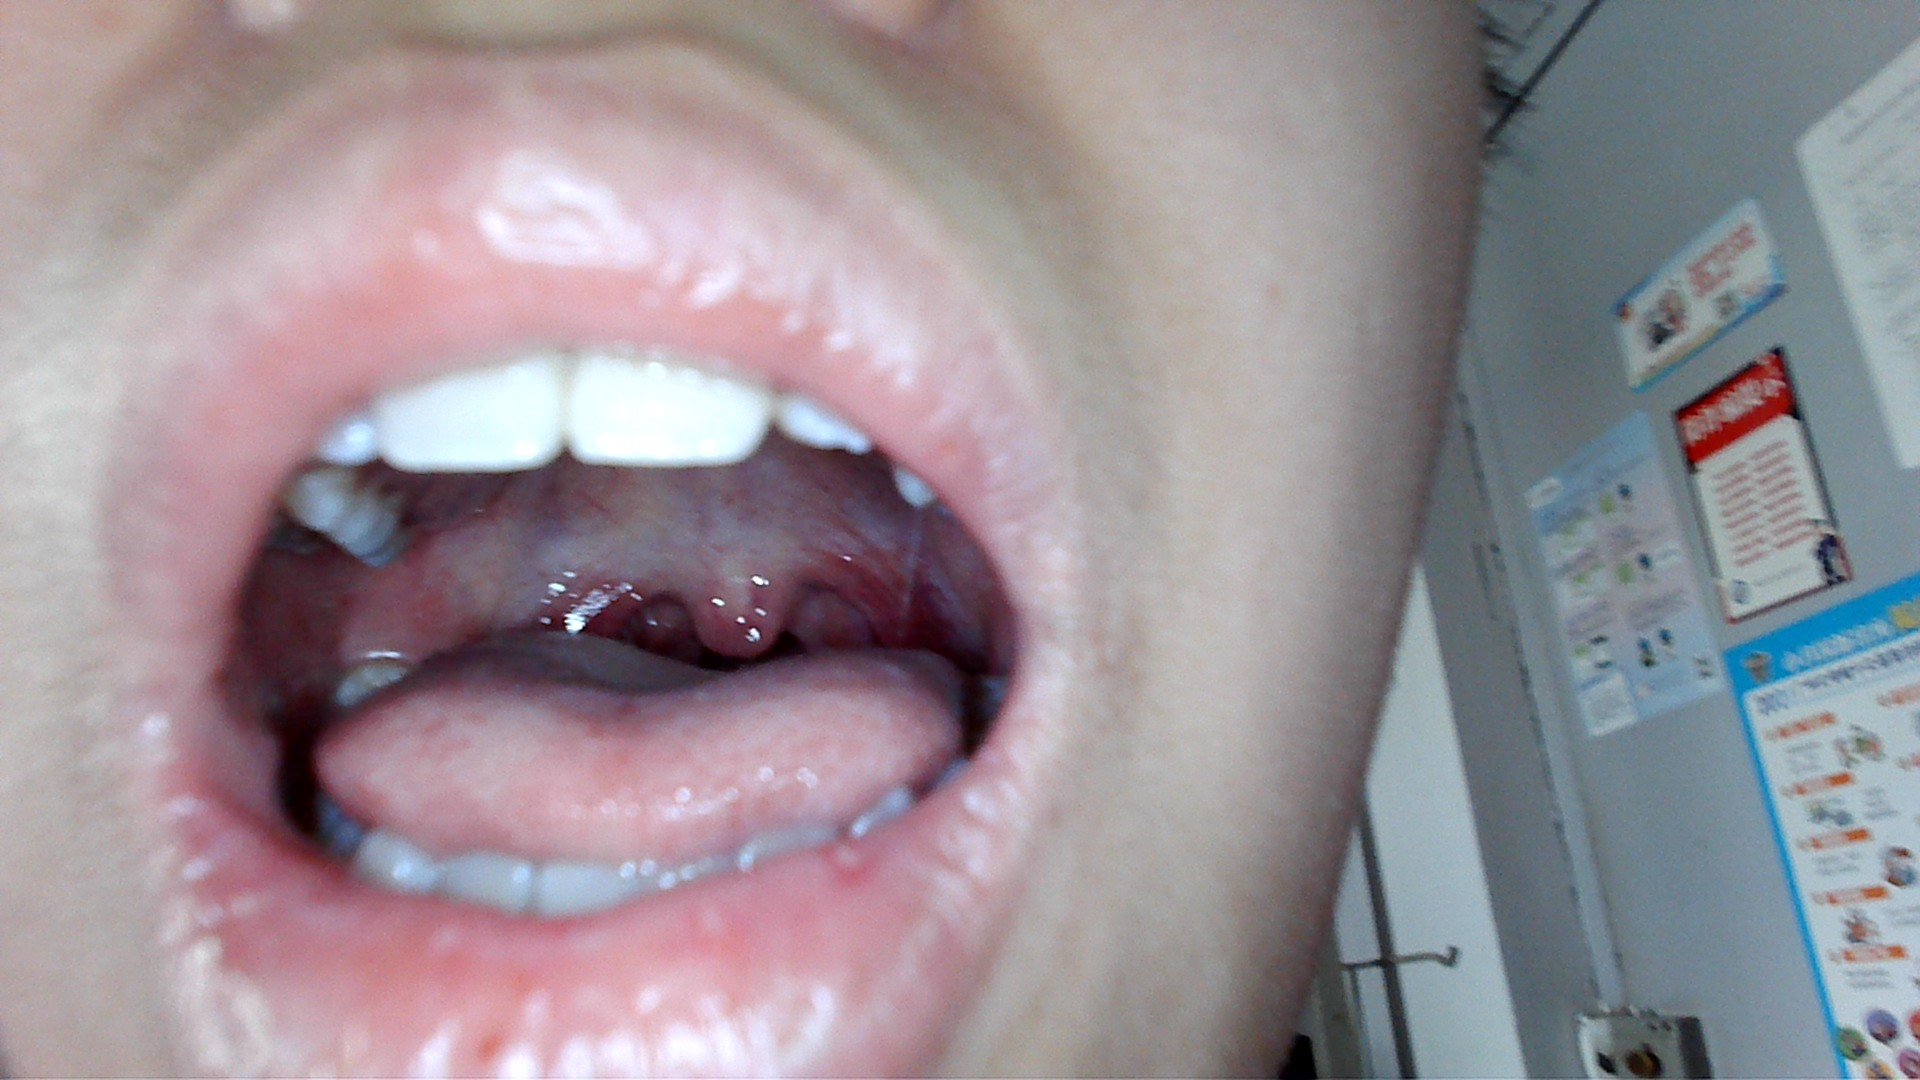throat: (542, 568, 670, 632), (825, 553, 914, 644)
